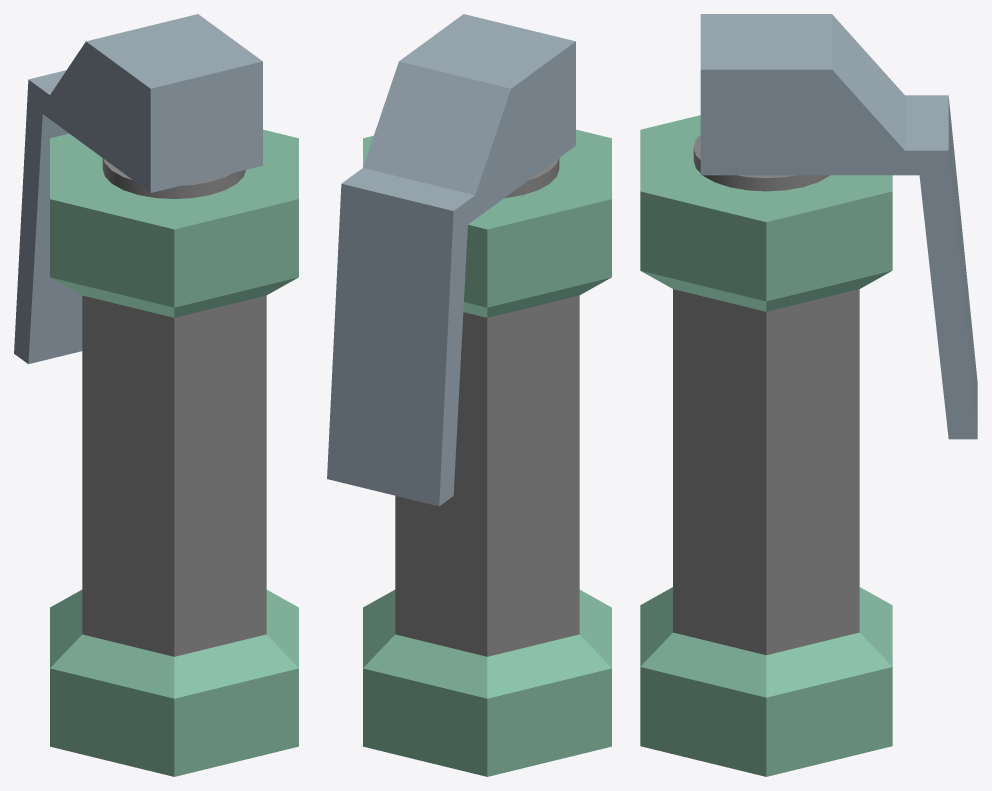
File: kenney-weapon-grenade-flash.glb
The picture shows the model from 3 angles, left to right: view 1: azimuth 30°, elevation 25°; view 2: azimuth 150°, elevation 25°; view 3: azimuth 270°, elevation 25°; orthographic projection.
Parts seen in each view (by area): view 1: Mesh grenadeFlash, grip; view 2: Mesh grenadeFlash, grip; view 3: Mesh grenadeFlash, grip.
Boxes of the visible parts, x1,y1,x2,y2 form: Mesh grenadeFlash: (50,129,298,776); grip: (14,14,262,363); Mesh grenadeFlash: (363,129,611,776); grip: (327,14,575,506); Mesh grenadeFlash: (640,115,892,776); grip: (700,14,977,439).
Size of the model in its own units: 0.0766 by 0.1952 by 0.0887.
